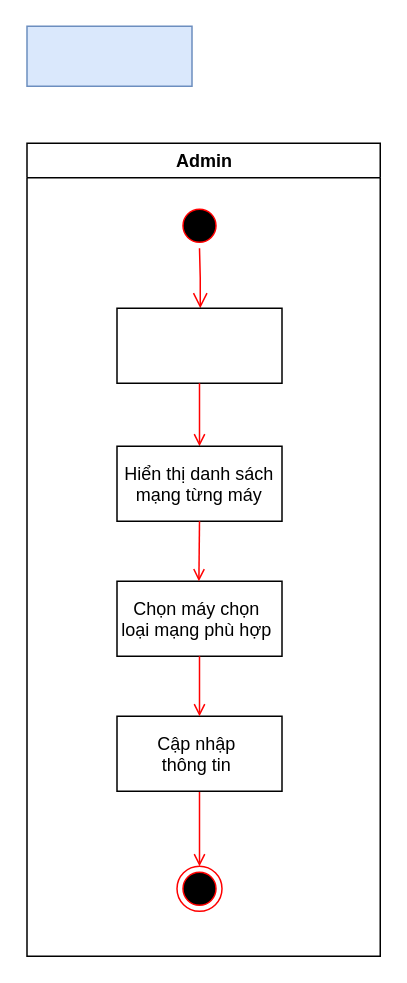
The diagram is 407 pixels wide and 983 high, and some of its shapes have lost their labels. Here are the shapes that lost their labels. From the top down, the centre of each, then its label:
At point 109,55: "Sơ đồ hoạt động thay đổi mạng".
At point 199,345: "Chọn mục quản lý mạng máy".
